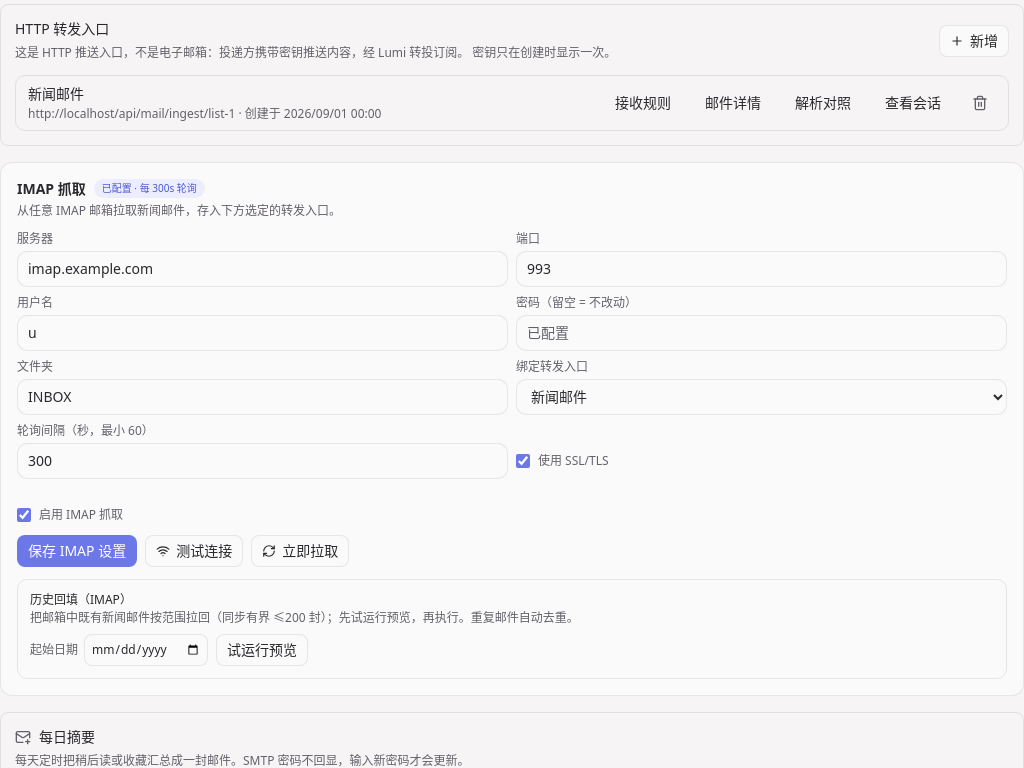
Scenario: F105 接收规则面板 › F105: 列表/新增（POST）/启停（PATCH）/样本试跑
Expected: the text "新闻邮件" is shown, [28,84,84,102]
Click the button "接收规则": (643, 102) [604,86,682,118]
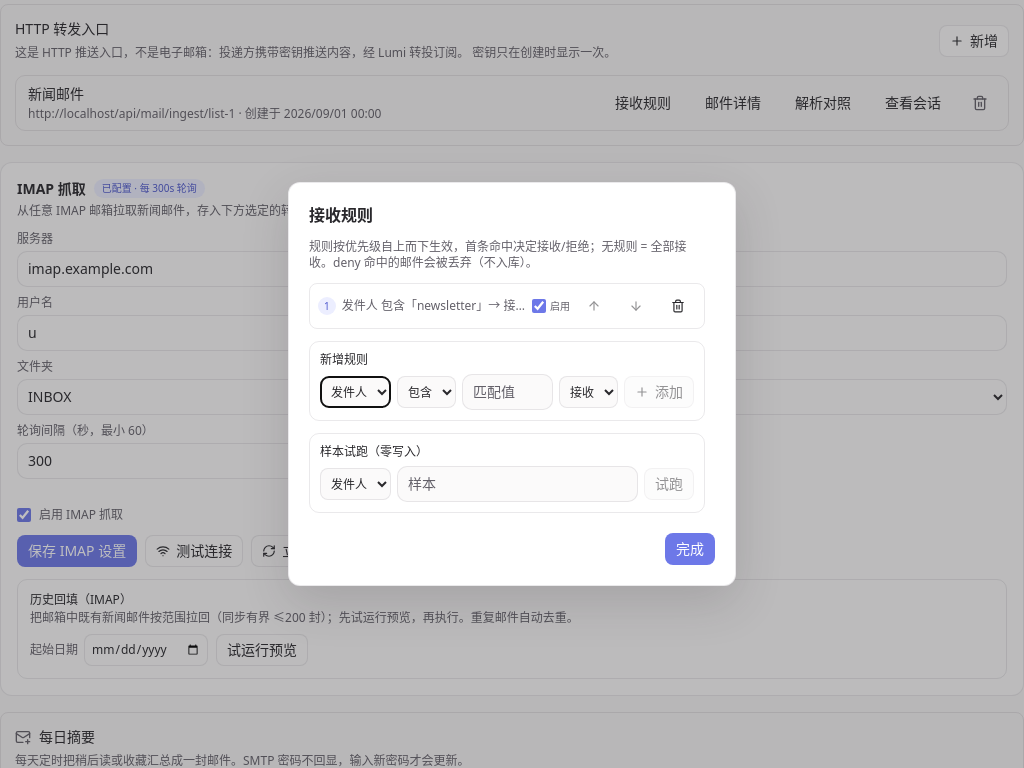
In the field named "新规则匹配值": (508, 392) [462,374,553,410], type "daily-digest"
Select "拒绝" in the dropdown named "新规则动作": (588, 392) [559,376,618,408]
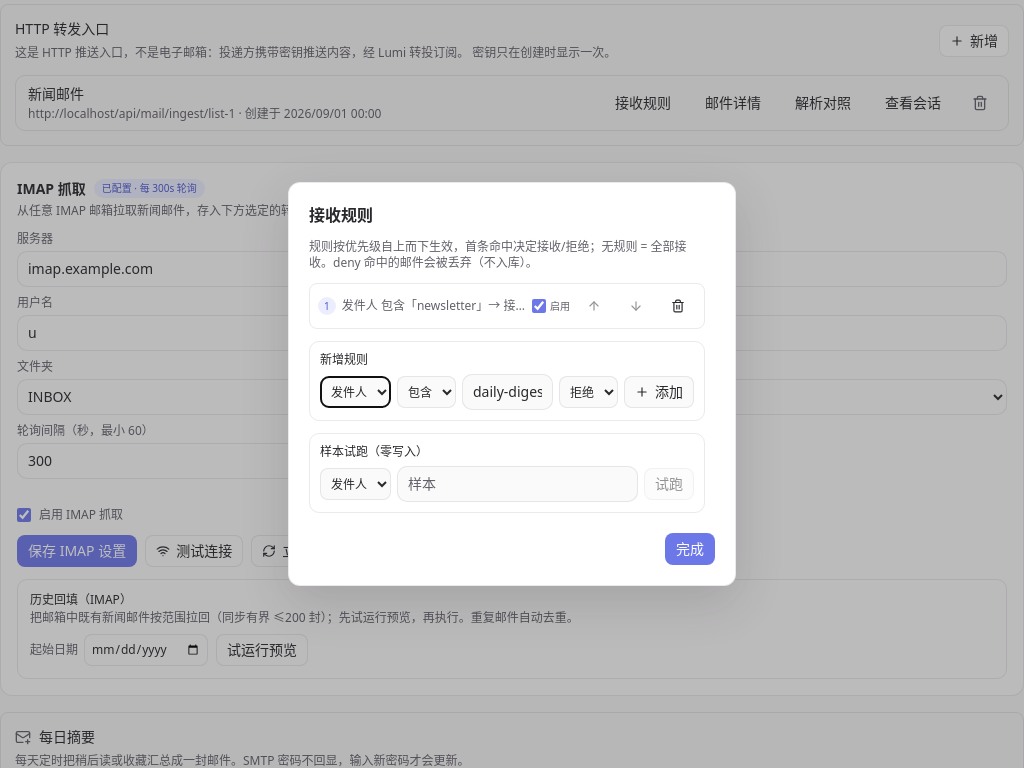
Click the button "添加": (659, 392) [624,376,694,408]
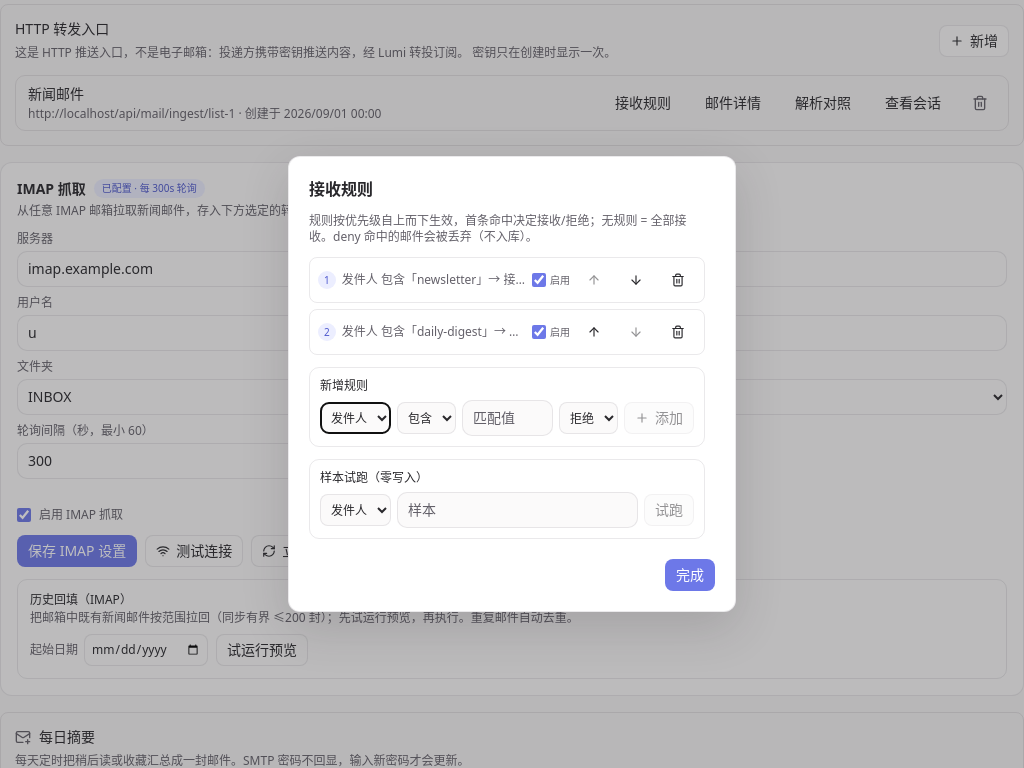
Click the checkbox named "启用规则 1": (539, 280) [532,273,546,287]
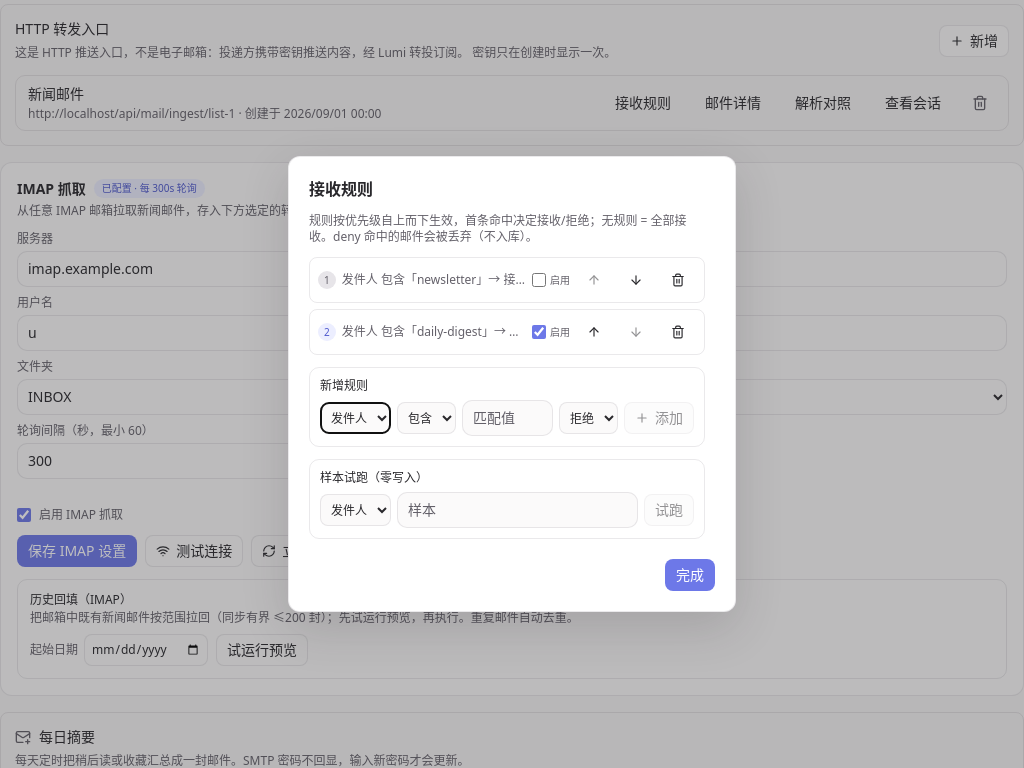
Select "发件人" in the dropdown named "试跑字段": (356, 510) [320,494,391,526]
In the field named "试跑样本值": (518, 510) [397,492,638,528], type "deny-me@x.com"
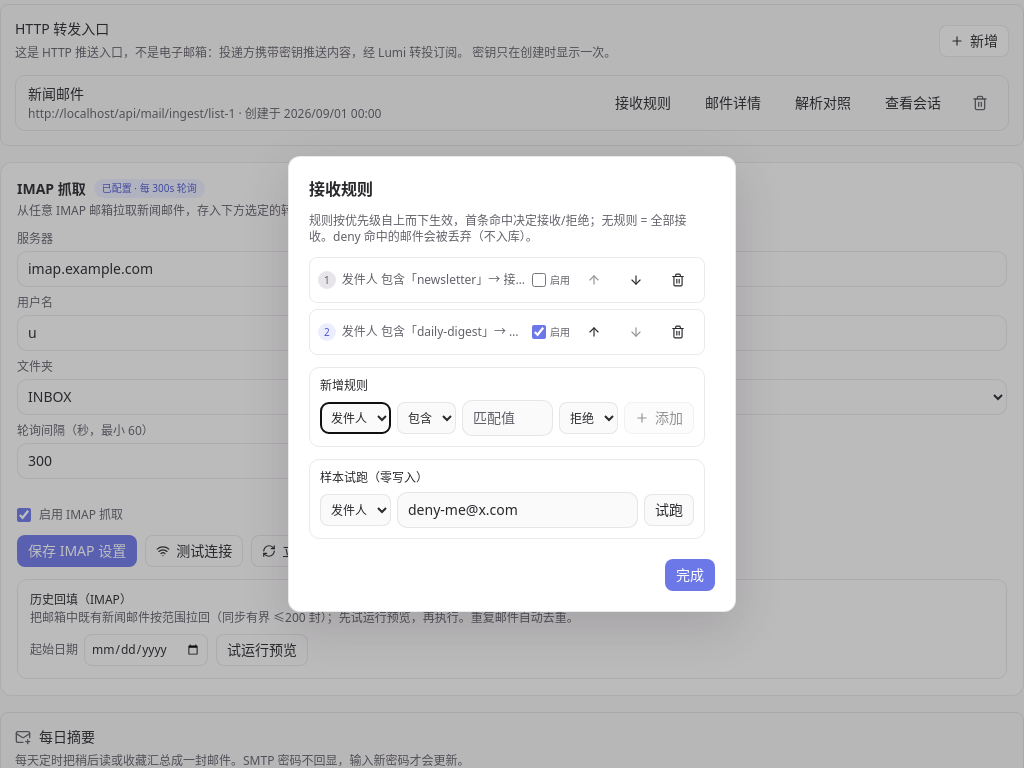
Click the button "试跑": (669, 510) [644,494,694,526]
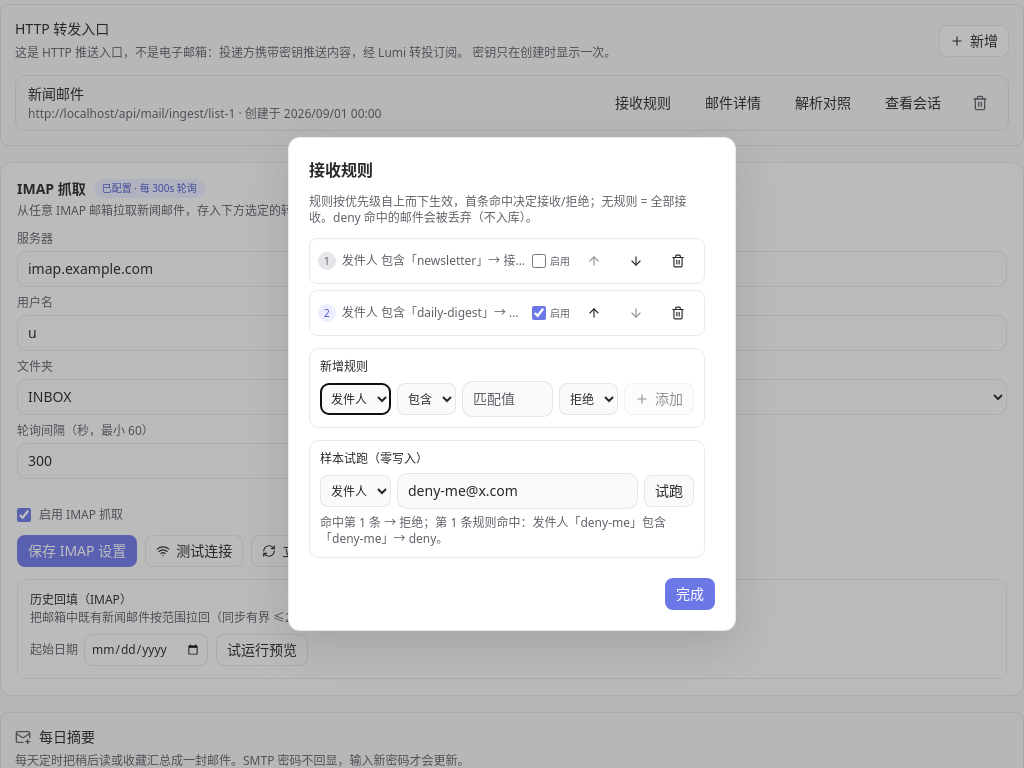
Now the message "命中第 1 条 → 拒绝；第 1 条规则命中：发件人「deny-me」包含「deny-me」→ deny。" is shown, box [320,515,694,547]
